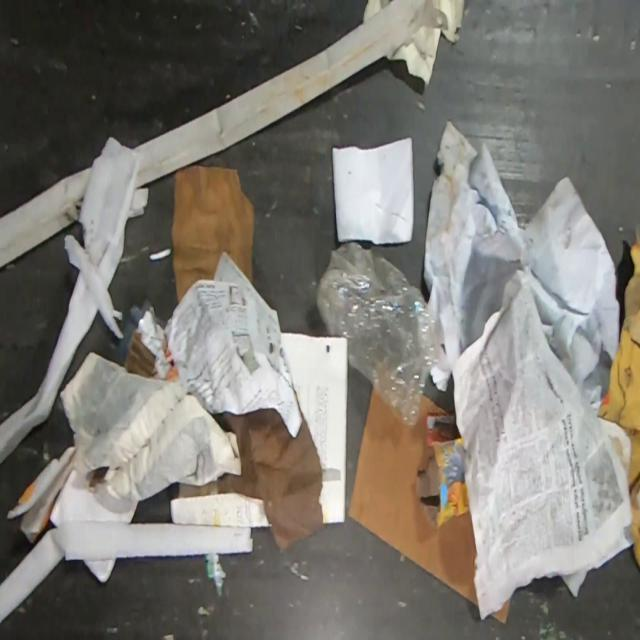cardboard: (348, 388, 478, 608), (178, 393, 324, 558), (170, 165, 256, 305)
soft_plastic: (317, 240, 445, 430)
